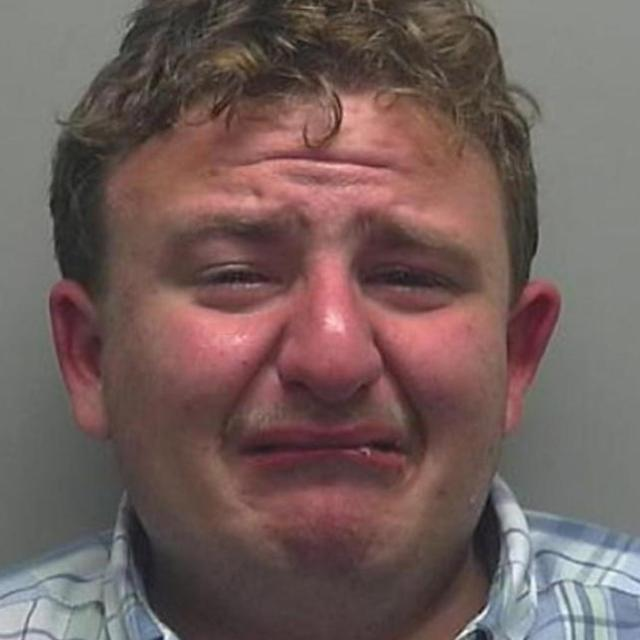Depress: (103, 93, 512, 636)
